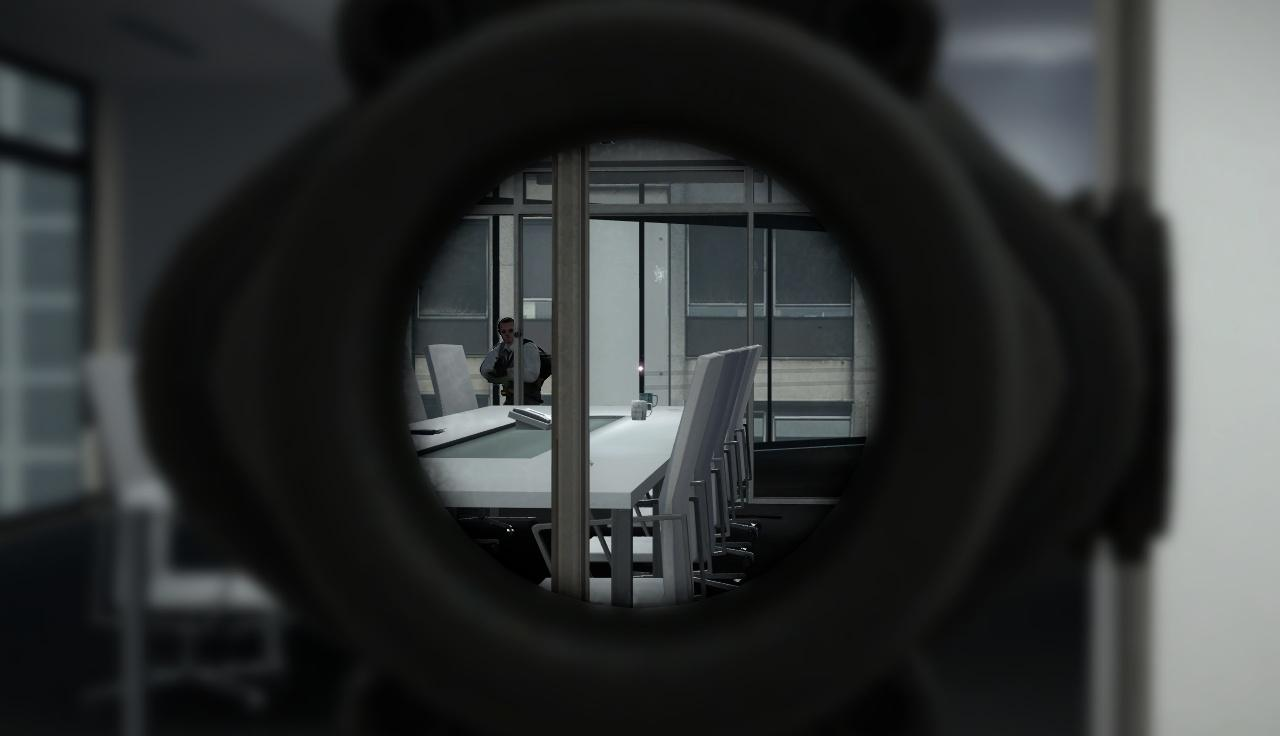tt: (480, 317, 543, 405)
tthead: (497, 317, 516, 344)
